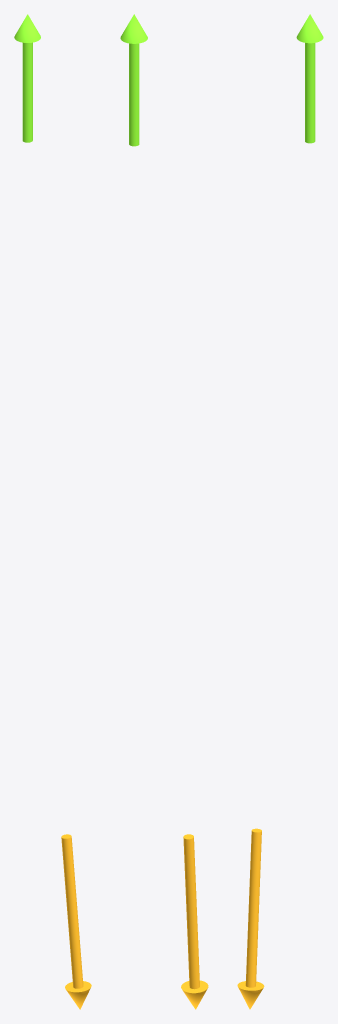
The model's file is pressure_storage_tank_flow.glb.
The picture shows the model from 3 angles, left to right: view 1: azimuth 90°, elevation 25°; view 2: azimuth 150°, elevation 25°; view 3: azimuth 330°, elevation 25°; orthographic projection. The views are drawn at different scales.
Visible parts, largest first — view 1: liquid.001, vapour_to_relief; view 2: liquid.001, vapour_to_relief; view 3: liquid.001, vapour_to_relief.
Boxes of the visible parts, x1=… form: liquid.001: x1=61, y1=834, x2=91, y2=1009; vapour_to_relief: x1=14, y1=14, x2=40, y2=142; liquid.001: x1=181, y1=834, x2=208, y2=1009; vapour_to_relief: x1=120, y1=14, x2=147, y2=146; liquid.001: x1=237, y1=828, x2=264, y2=1009; vapour_to_relief: x1=296, y1=14, x2=323, y2=143.
Bounding box in the file's own units: 0.254 × 4.18 × 0.2996.
